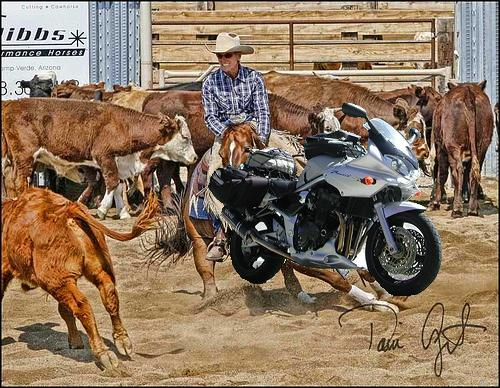tampered: (209, 104, 442, 296)
